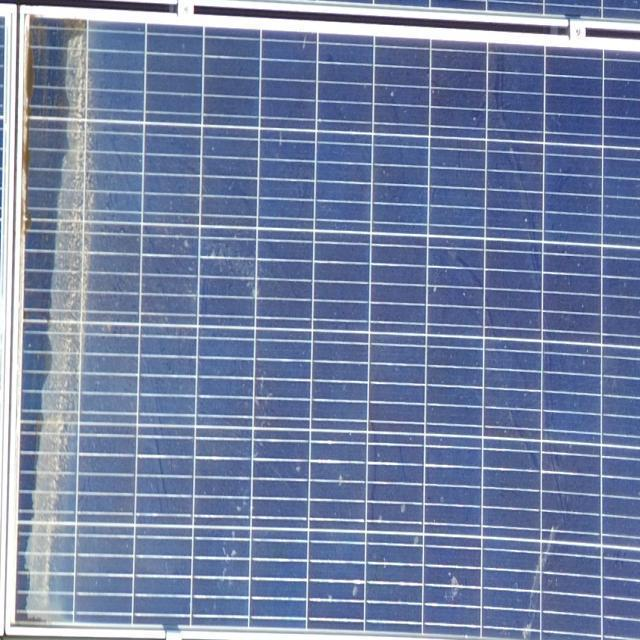Surface Contaminant: (13, 19, 639, 639)
